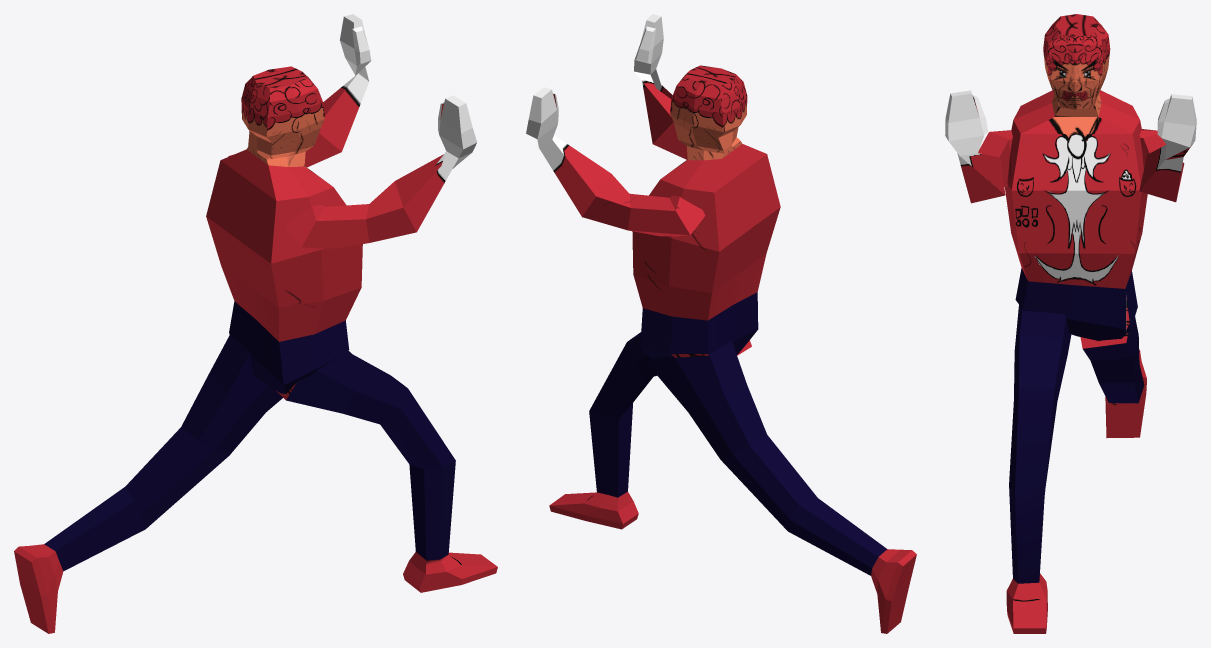
File: MecQuiMaintientPillierQuiTombe.fbx
3 views of the same model, side by side, from view 1: azimuth 30°, elevation 25°; view 2: azimuth 150°, elevation 25°; view 3: azimuth 270°, elevation 25° (orthographic). The views are drawn at different scales.
Parts seen in each view (by area): view 1: Cube.001; view 2: Cube.001; view 3: Cube.001.
Part boxes in pixels (left/top/right/bottom): Cube.001: left=14, top=14, right=497, bottom=633; Cube.001: left=526, top=14, right=916, bottom=633; Cube.001: left=945, top=14, right=1196, bottom=633.
Bounding box in the file's own units: 325 × 383 × 168.
